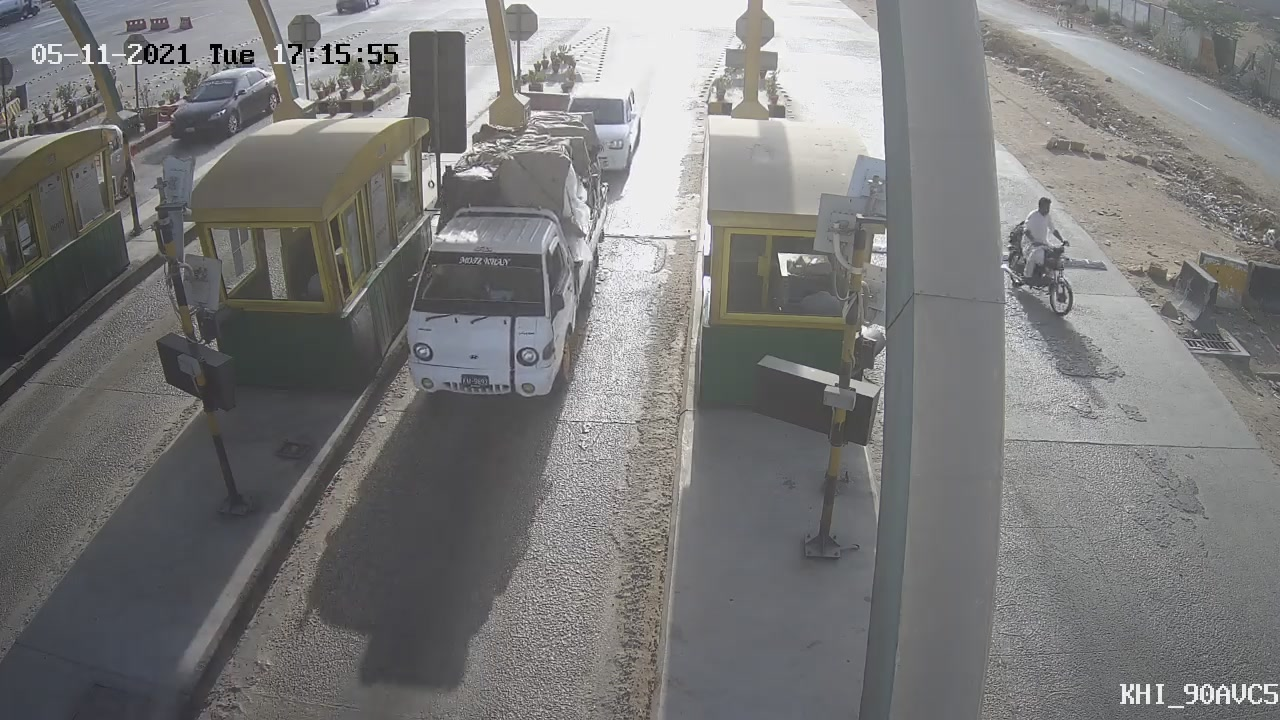F2: (373, 99, 627, 422)
